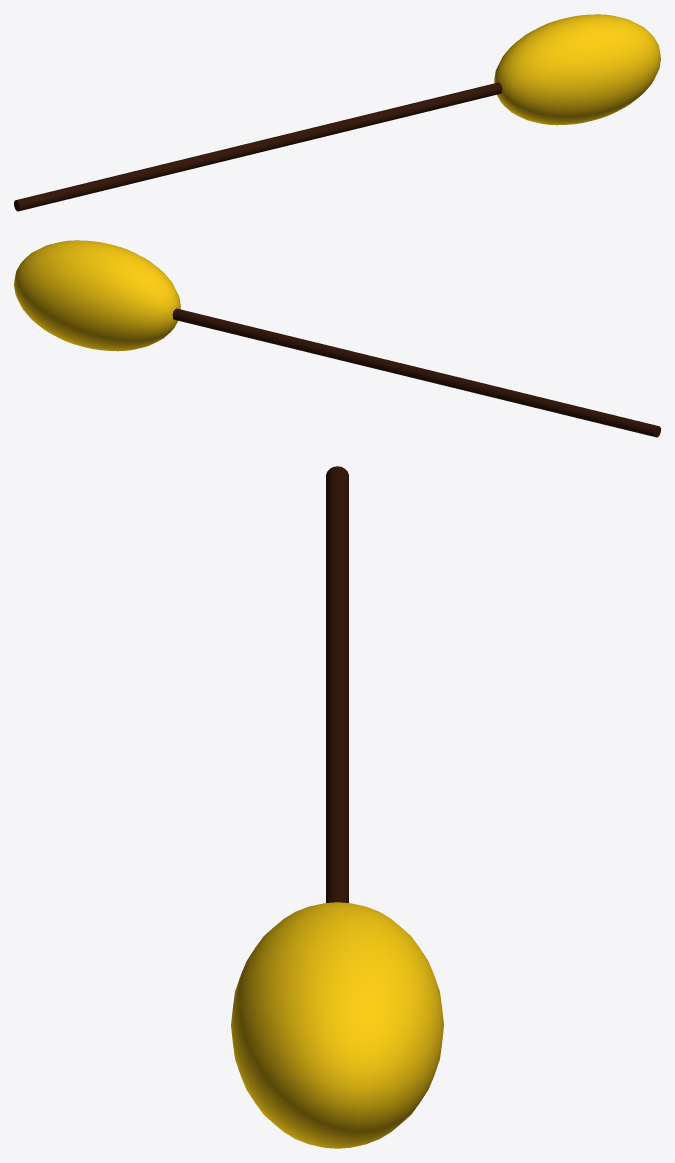
File: mallet.FBX
3 renders of one model, top to bottom at view 1: azimuth 30°, elevation 25°; view 2: azimuth 150°, elevation 25°; view 3: azimuth 270°, elevation 25°, orthographic. The views are drawn at different scales.
Parts seen in each view (by area): view 1: Sphere001, Cylinder001; view 2: Sphere001, Cylinder001; view 3: Sphere001, Cylinder001.
Boxes of the visible parts, left/top/right/bottom form: Sphere001: left=494, top=14, right=660, bottom=125; Cylinder001: left=14, top=82, right=502, bottom=211; Sphere001: left=14, top=240, right=180, bottom=351; Cylinder001: left=172, top=308, right=660, bottom=437; Sphere001: left=231, top=902, right=443, bottom=1148; Cylinder001: left=326, top=466, right=348, bottom=902.
Size of the model in its own units: 114 by 16.5 by 16.5.
